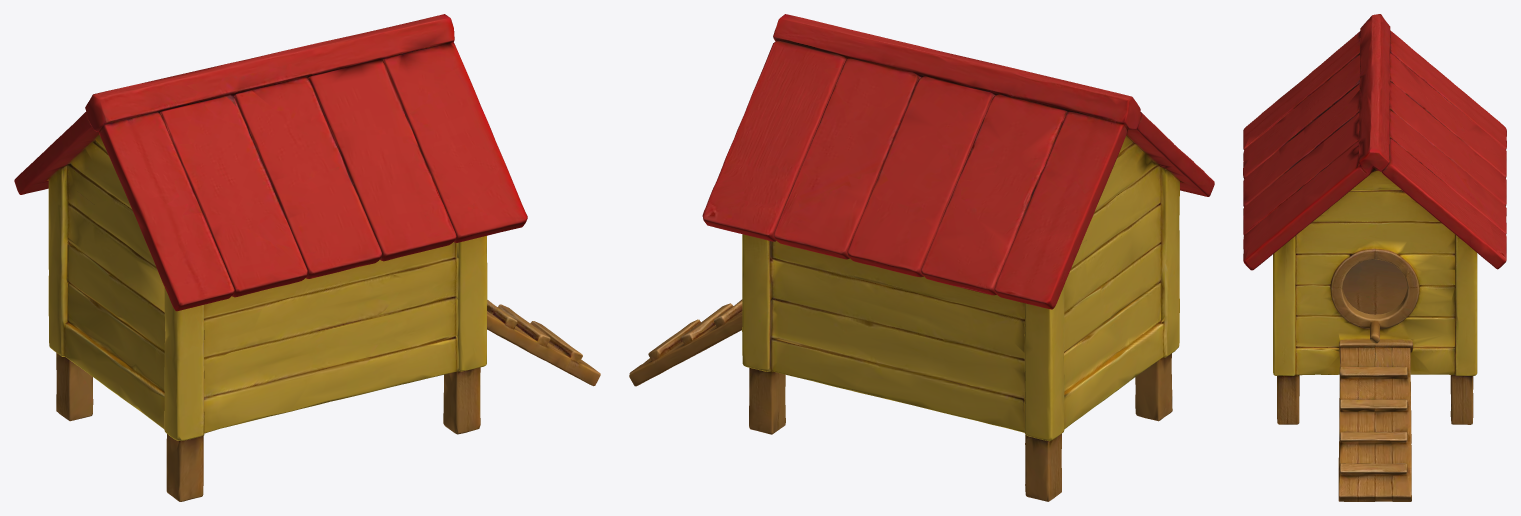
File: coop.glb
3 views of the same model, side by side, from view 1: azimuth 30°, elevation 25°; view 2: azimuth 150°, elevation 25°; view 3: azimuth 270°, elevation 25° (orthographic). The views are drawn at different scales.
Visible parts, largest first — view 1: tripo_node_42cc059f-feae-44bc-89df-0d2281ce1b0e; view 2: tripo_node_42cc059f-feae-44bc-89df-0d2281ce1b0e; view 3: tripo_node_42cc059f-feae-44bc-89df-0d2281ce1b0e.
Part boxes in pixels (x1,y1,x2,y2): tripo_node_42cc059f-feae-44bc-89df-0d2281ce1b0e: [14, 14, 600, 501]; tripo_node_42cc059f-feae-44bc-89df-0d2281ce1b0e: [629, 14, 1214, 501]; tripo_node_42cc059f-feae-44bc-89df-0d2281ce1b0e: [1243, 14, 1506, 501].
Bounding box in the file's own units: 1 × 0.7654 × 0.5985.
1 material, 1 textured.
